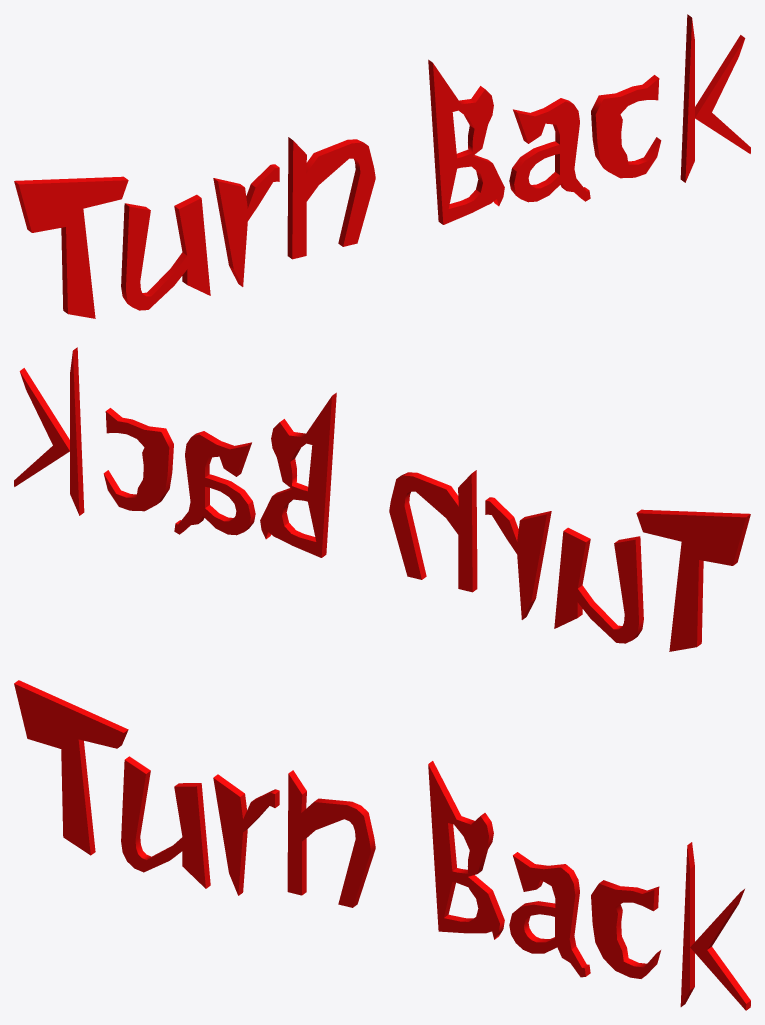
The model's file is TurnBack_NeonSign.fbx.
3 renders of one model, top to bottom at view 1: azimuth 30°, elevation 25°; view 2: azimuth 150°, elevation 25°; view 3: azimuth 330°, elevation 25°, orthographic.
Visible parts, largest first — view 1: TurnBack_Sign; view 2: TurnBack_Sign; view 3: TurnBack_Sign.
Boxes of the visible parts, <box> form: TurnBack_Sign: <box>14,14,750,318</box>; TurnBack_Sign: <box>14,347,750,651</box>; TurnBack_Sign: <box>14,680,750,1010</box>.
Size of the model in its own units: 18.32 by 4.35 by 0.2074.
